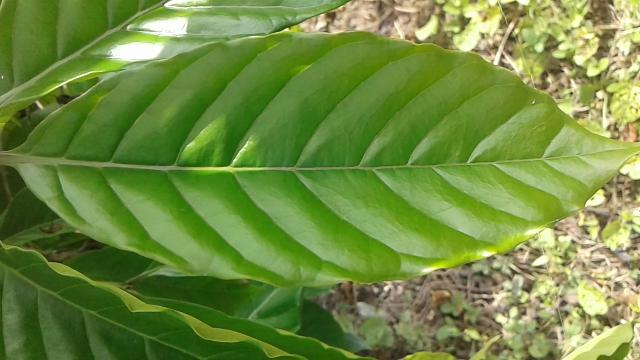healthy: (9, 22, 640, 292)
